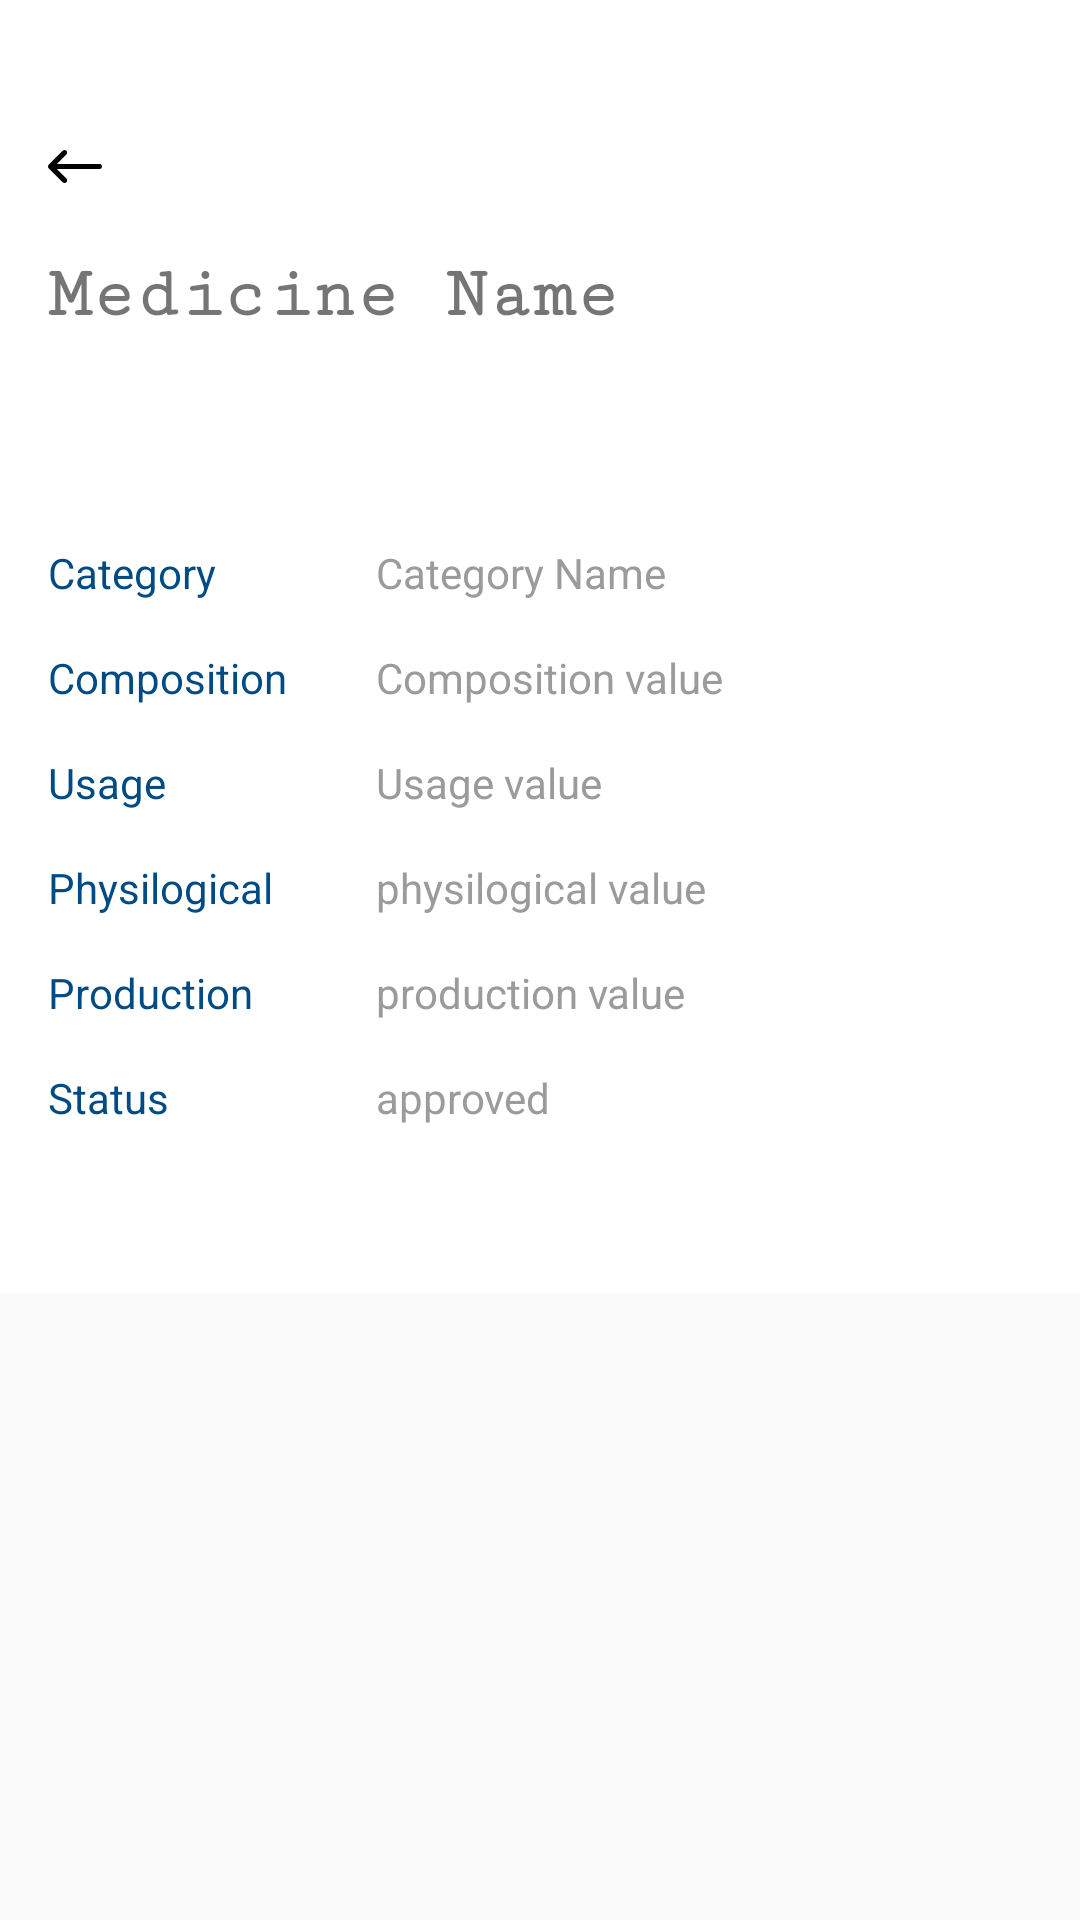

Locate icon controls on the screen. Image size 1080*1920, boxes as box(x1, y1, x2, y2).
back: box(48, 150, 102, 183)
